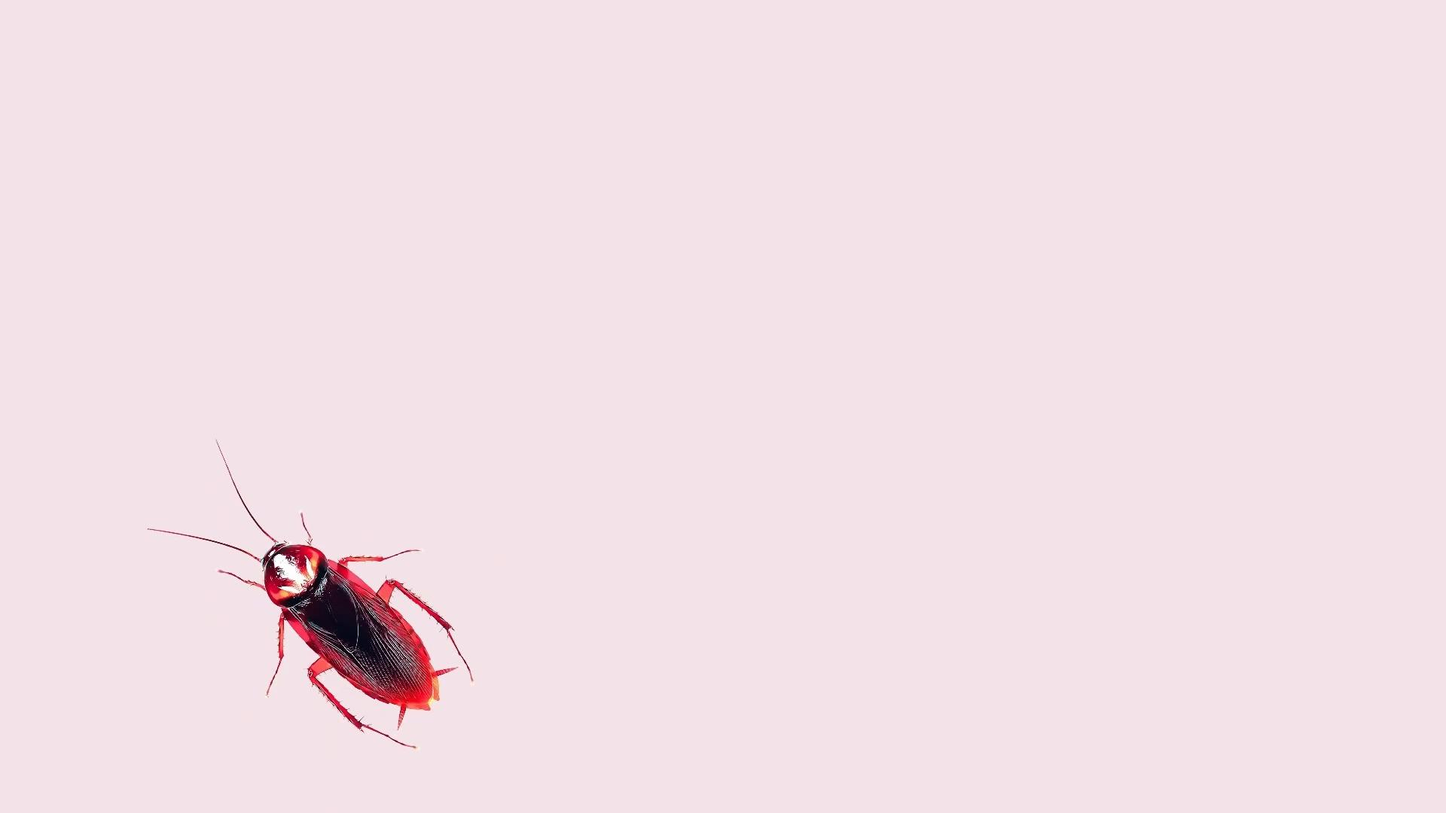cockroach: (155, 471, 475, 758)
